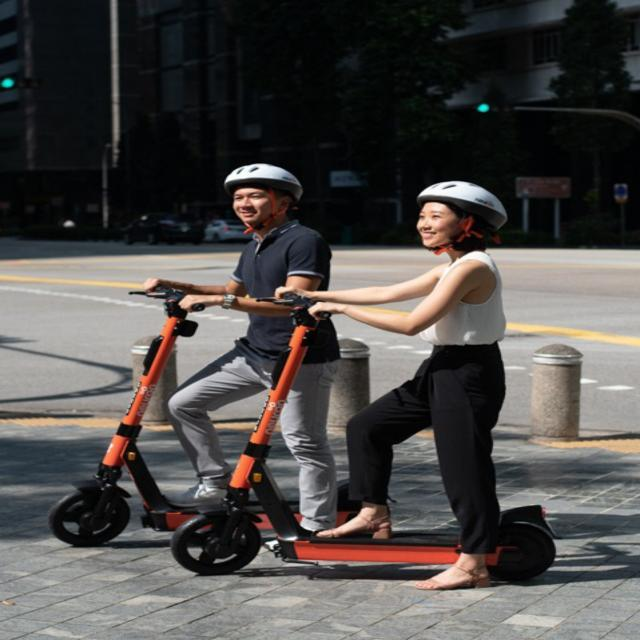Helmet: (406, 173, 512, 258), (212, 153, 308, 239)
